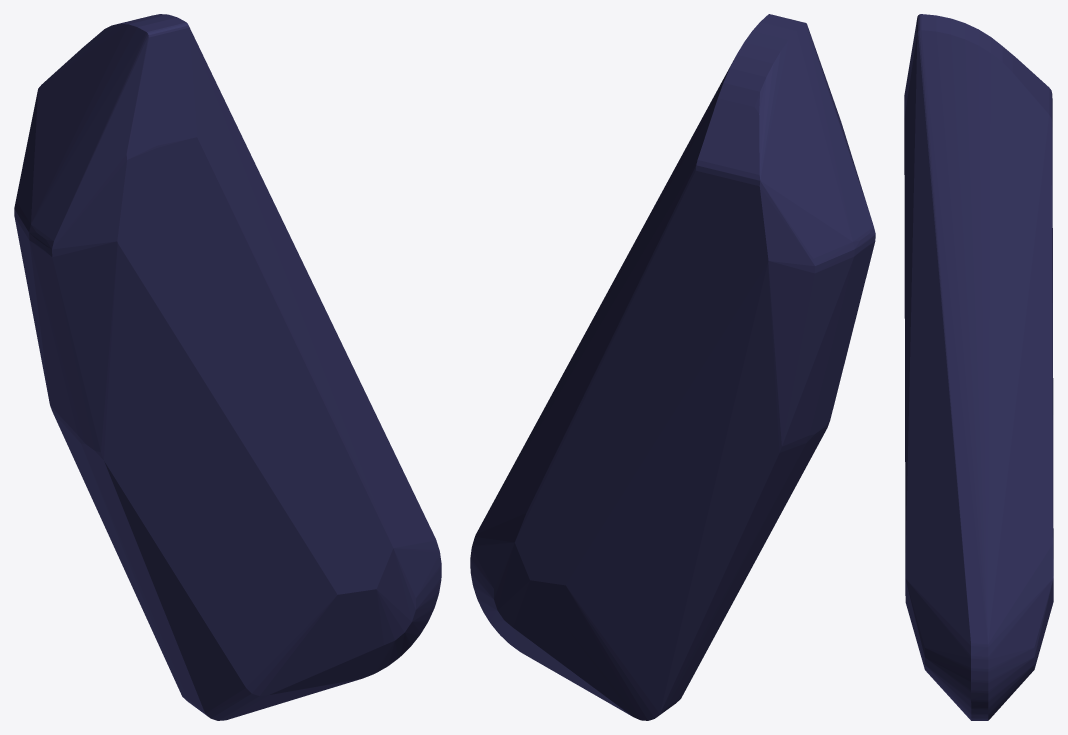
Rendered from GRIPPER_OPEN_FINGER_1.dae.
The picture shows the model from 3 angles, left to right: view 1: azimuth 30°, elevation 25°; view 2: azimuth 150°, elevation 25°; view 3: azimuth 270°, elevation 25°; orthographic projection. The views are drawn at different scales.
Visible parts, largest first — view 1: GRIPPER_OPEN_FINGER_1; view 2: GRIPPER_OPEN_FINGER_1; view 3: GRIPPER_OPEN_FINGER_1.
Boxes of the visible parts, x1,y1,x2,y2 form: GRIPPER_OPEN_FINGER_1: [14, 14, 441, 720]; GRIPPER_OPEN_FINGER_1: [470, 14, 875, 720]; GRIPPER_OPEN_FINGER_1: [904, 14, 1053, 720].
Bounding box in the file's own units: 0.0815 × 0.031 × 0.1411.
